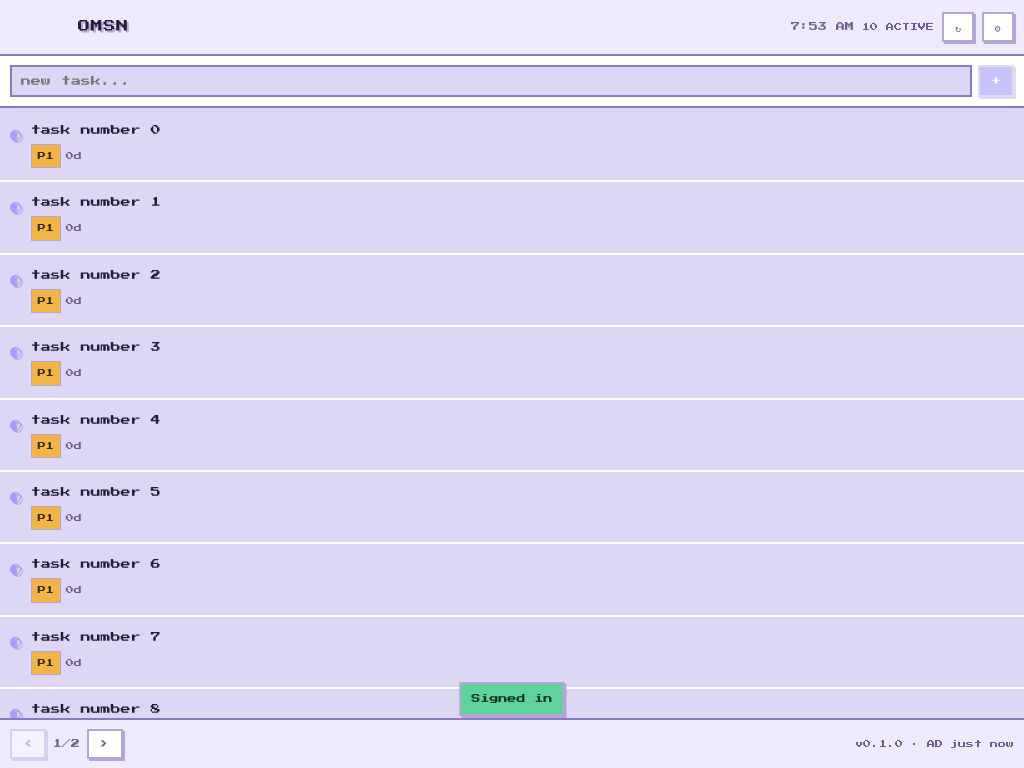
Scenario: clicking a row to read a long title (R3) › forgets the expansion when the page changes
The width and height of the screenshot is (1024, 768).
Expected: the text "task number 0" is shown, [31,125,161,135]
Click the button "task number 0 P1 0d": [96, 130] box [31,125,161,168]
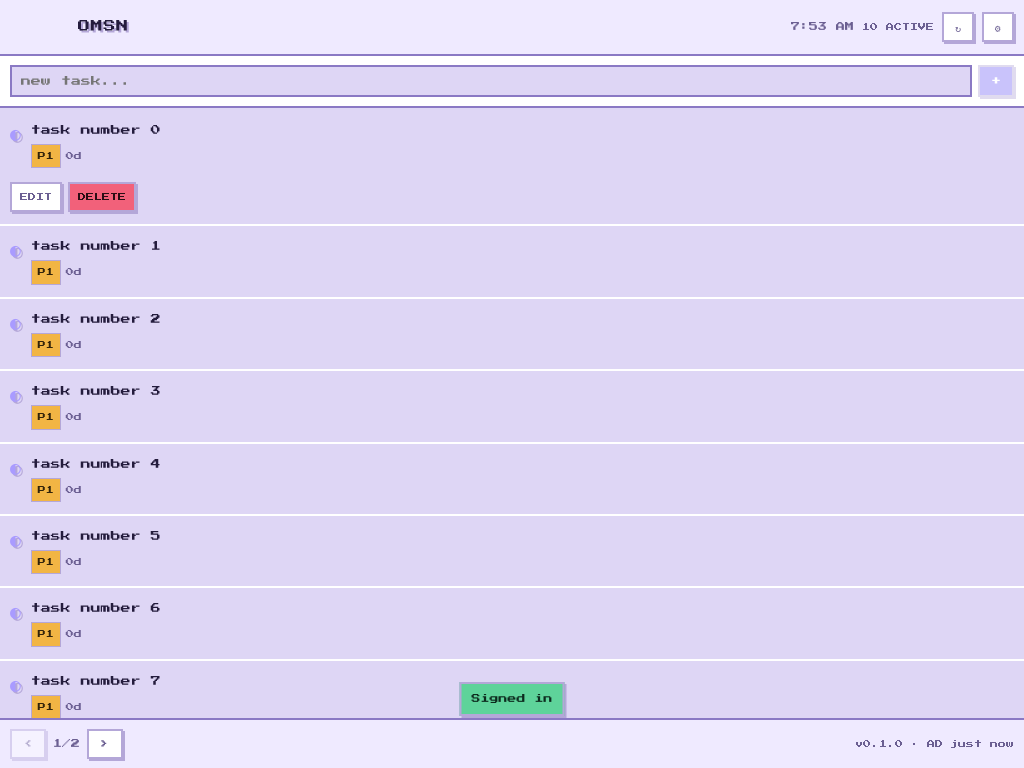
Click the button "›": [105, 744] box [87,729,123,759]
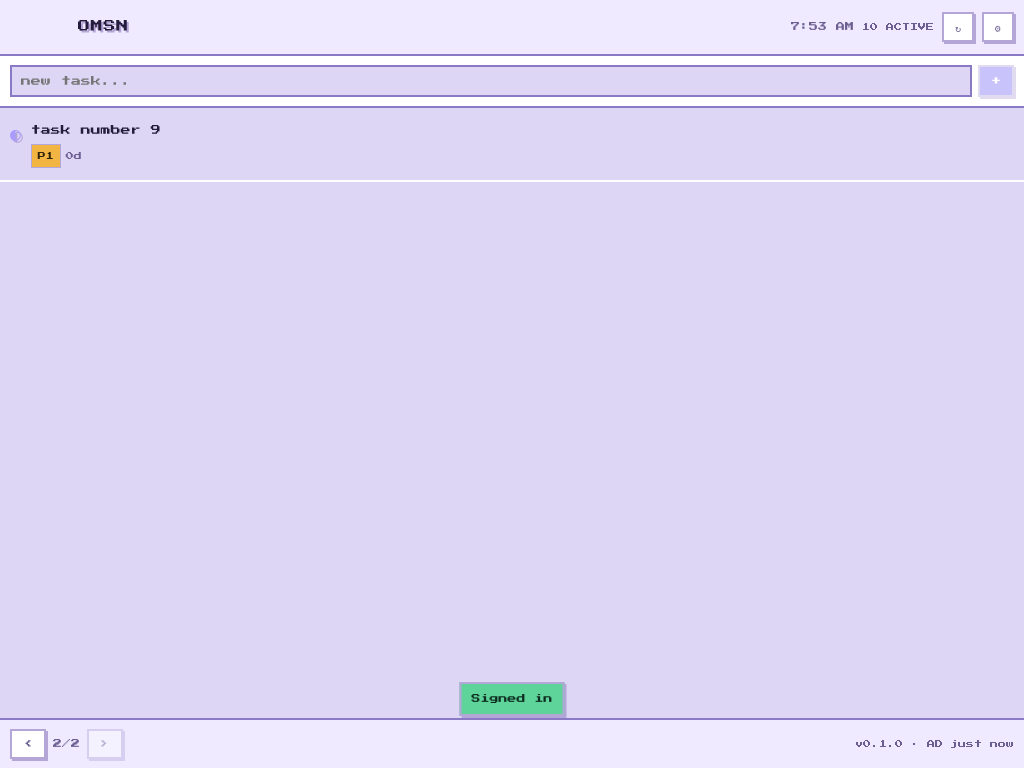
Now the text "2/2" is shown, box [53,739,80,748]
Now no elements with class "task__title--expanded" are shown
